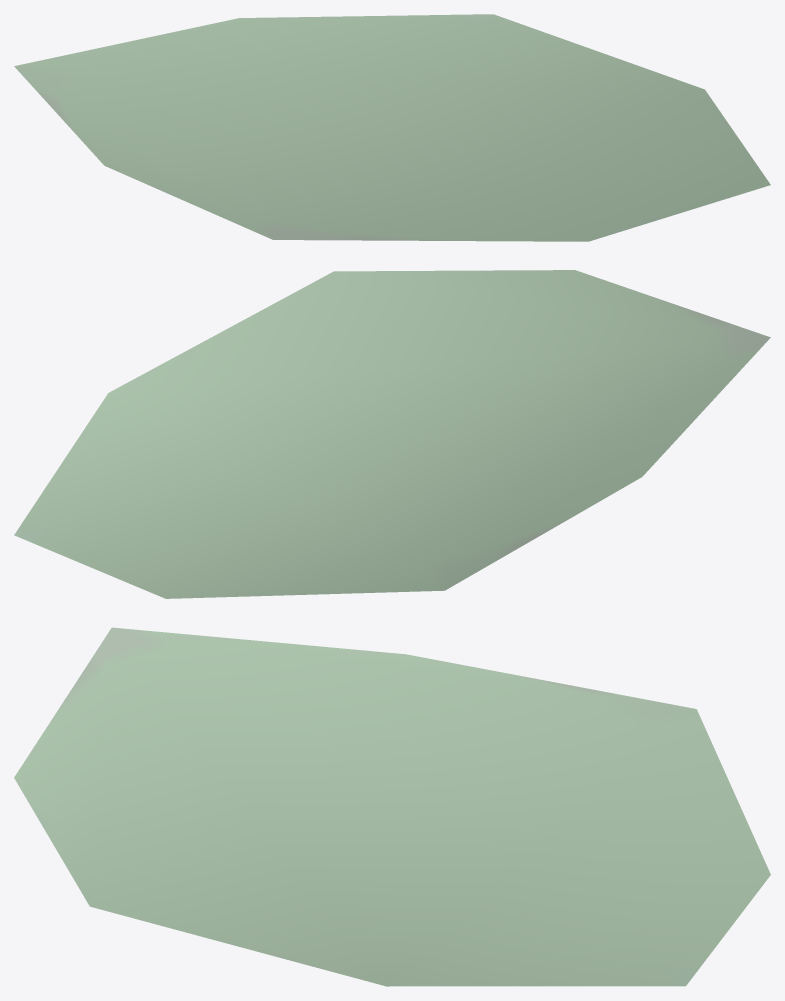
Rendered from TROLLHOLE02_HOLECAP100.fbx.
3 views of the same model, one above another, from view 1: azimuth 30°, elevation 25°; view 2: azimuth 150°, elevation 25°; view 3: azimuth 270°, elevation 25° (orthographic). The views are drawn at different scales.
Parts seen in each view (by area): view 1: TROLLHOLE02_HOLECAP100; view 2: TROLLHOLE02_HOLECAP100; view 3: TROLLHOLE02_HOLECAP100.
Boxes of the visible parts, x1,y1,x2,y2 form: TROLLHOLE02_HOLECAP100: (14, 14, 770, 241); TROLLHOLE02_HOLECAP100: (14, 270, 770, 598); TROLLHOLE02_HOLECAP100: (14, 627, 770, 986).
Size of the model in its own units: 23992 by 4729 by 27938.
1 material, 1 textured.
